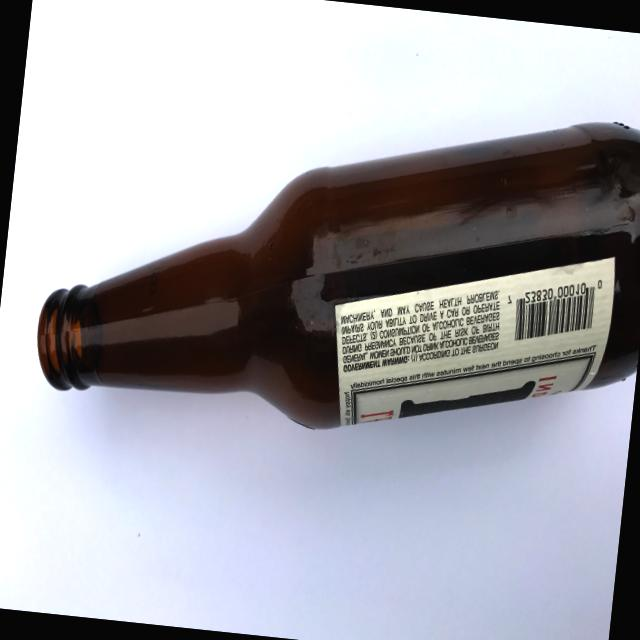Glass: (17, 56, 640, 465)
